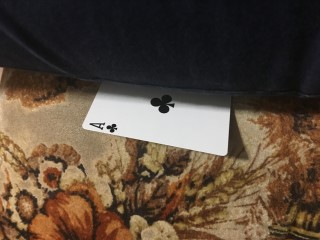AceOfClubs: (82, 81, 232, 157)
